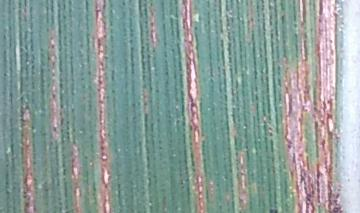tarspot: (264, 203, 285, 213)
